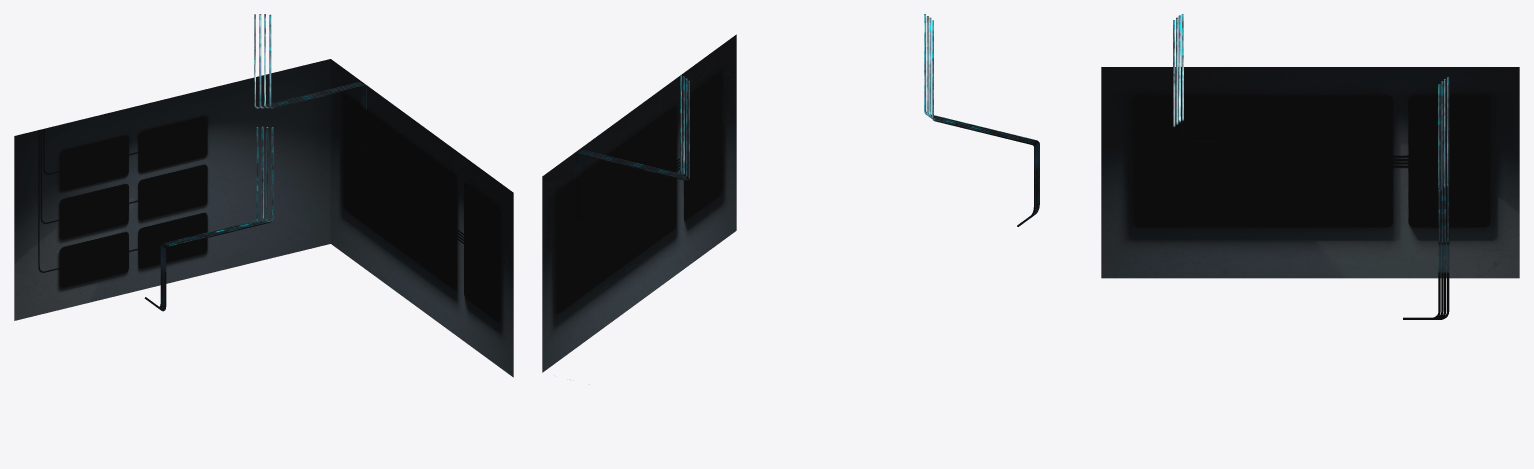
Rendered from TOSKU_About_compr.glb.
3 views of the same model, side by side, from view 1: azimuth 30°, elevation 25°; view 2: azimuth 150°, elevation 25°; view 3: azimuth 270°, elevation 25° (orthographic). The views are drawn at different scales.
Parts seen in each view (by area): view 1: Building.About, Team Bio Large Screen Wires 2, Team Bio Large Screen Wires; view 2: Building.About, Team Bio Large Screen Wires 2, Team Bio Large Screen Wires; view 3: Building.About, Team Bio Large Screen Wires, Team Bio Large Screen Wires 2.
Part boxes in pixels (x1=…): Building.About: x1=14, y1=59, x2=513, y2=377; Team Bio Large Screen Wires 2: x1=144, y1=126, x2=273, y2=311; Team Bio Large Screen Wires: x1=254, y1=14, x2=381, y2=162; Building.About: x1=542, y1=34, x2=736, y2=372; Team Bio Large Screen Wires 2: x1=924, y1=14, x2=1039, y2=226; Team Bio Large Screen Wires: x1=575, y1=75, x2=689, y2=220; Building.About: x1=1101, y1=67, x2=1519, y2=278; Team Bio Large Screen Wires: x1=1403, y1=77, x2=1449, y2=319; Team Bio Large Screen Wires 2: x1=1173, y1=14, x2=1219, y2=143.
Bounding box in the file's own units: 9.01 × 7.52 × 8.97.
3 materials, 3 textured.
